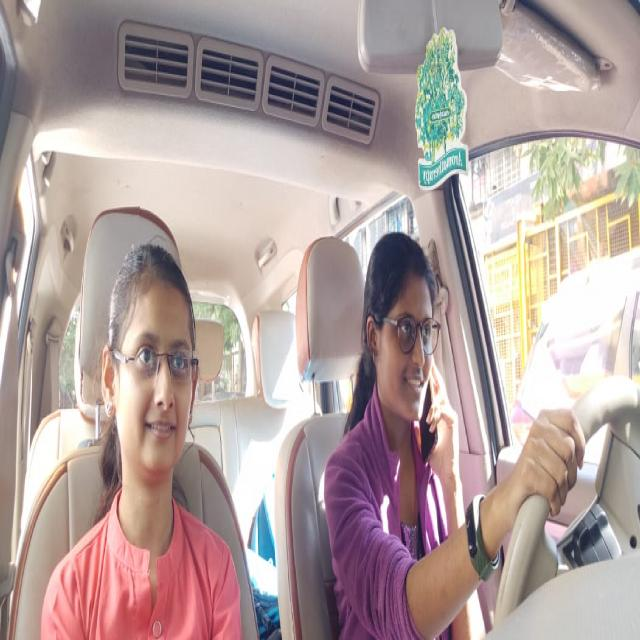mobile: (417, 374, 446, 461)
person: (97, 235, 209, 510), (353, 209, 449, 472)
